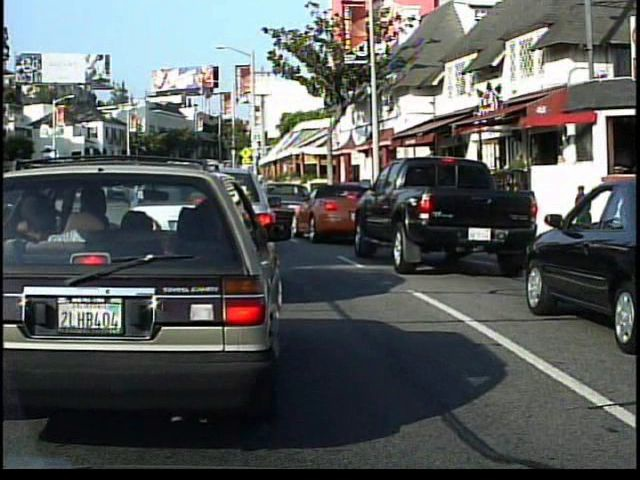person: (505, 149, 530, 202)
